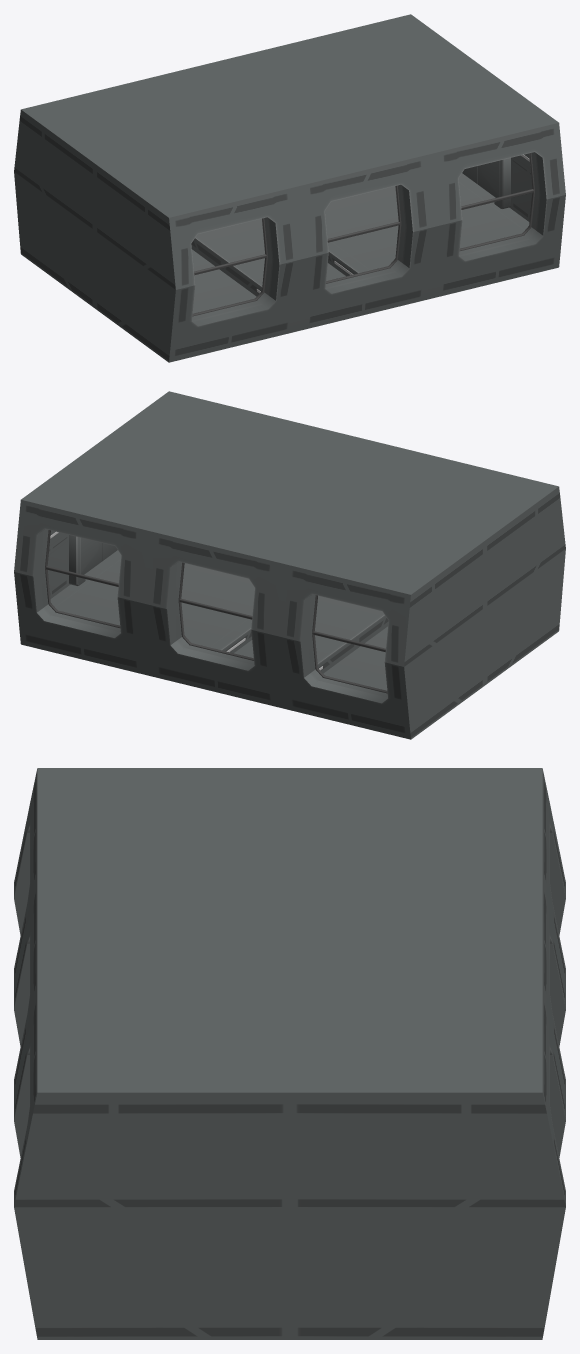
The model's file is SciFiRoom01.FBX.
3 views of the same model, one above another, from view 1: azimuth 30°, elevation 25°; view 2: azimuth 150°, elevation 25°; view 3: azimuth 270°, elevation 25° (orthographic). The views are drawn at different scales.
Parts seen in each view (by area): view 1: SciFiRoom01; view 2: SciFiRoom01; view 3: SciFiRoom01.
Part boxes in pixels (left/top/right/bottom): SciFiRoom01: left=14, top=14, right=565, bottom=362; SciFiRoom01: left=14, top=391, right=565, bottom=739; SciFiRoom01: left=14, top=768, right=565, bottom=1339.
Size of the model in its own units: 788 by 280 by 566.
